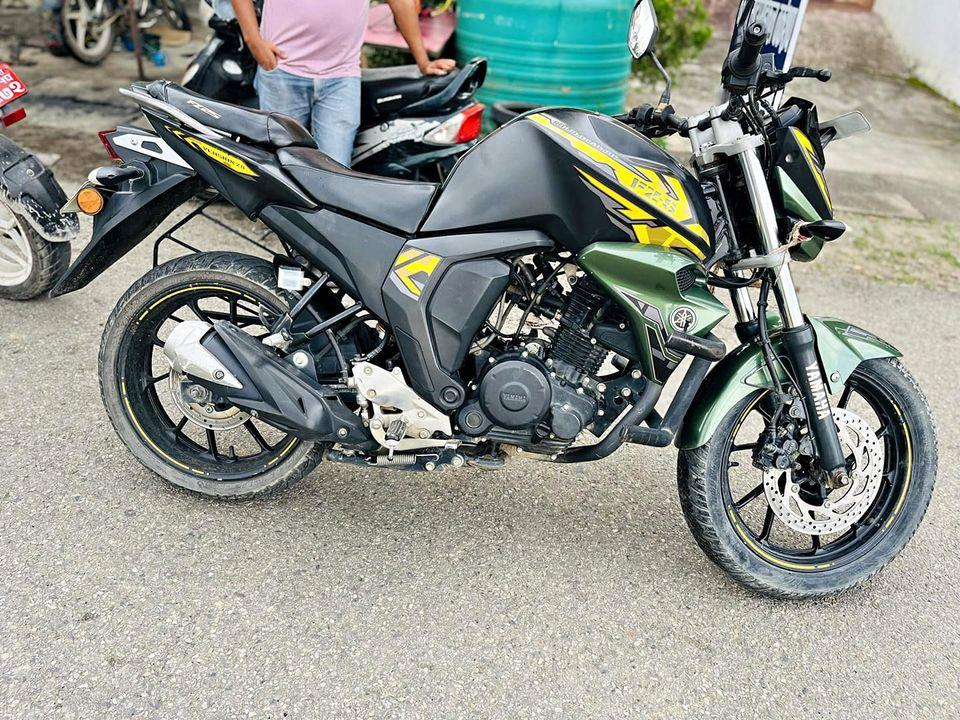bike: (57, 7, 943, 606)
